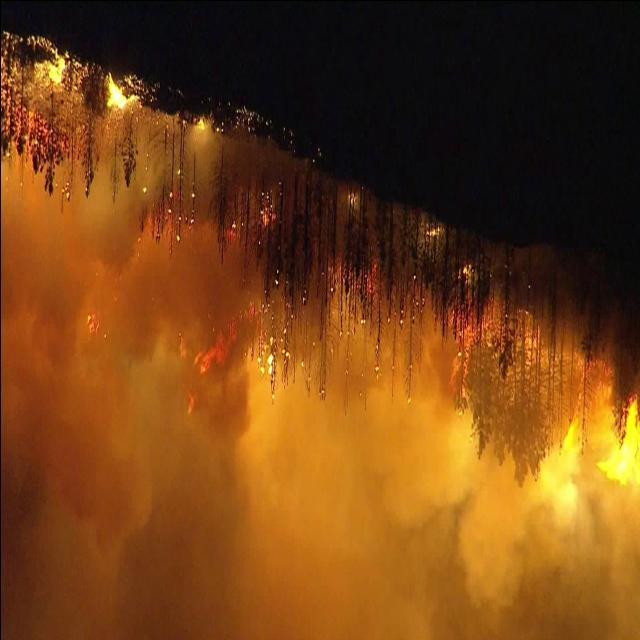Fire: (84, 224, 244, 404), (540, 384, 634, 518), (42, 44, 132, 120), (440, 287, 496, 392)
